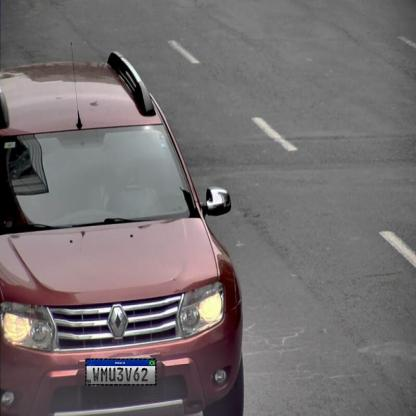PlacaM: (86, 358, 157, 386)
